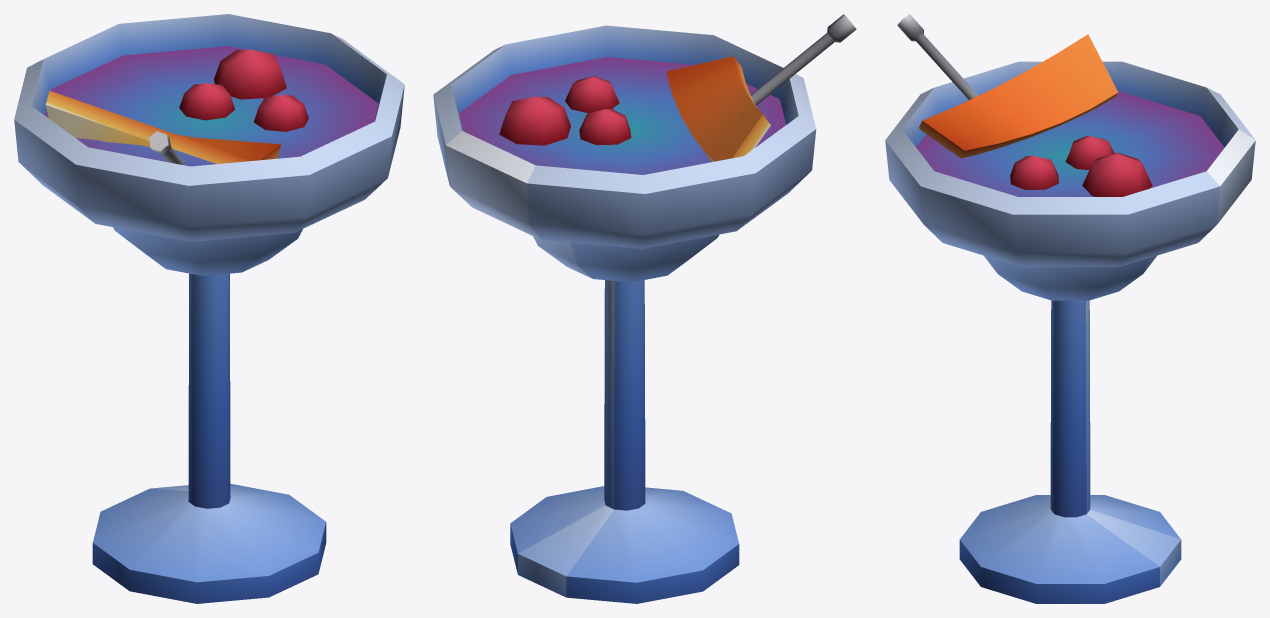
Rendered from m_Cocktail28.fbx.
3 renders of one model, left to right at view 1: azimuth 30°, elevation 25°; view 2: azimuth 150°, elevation 25°; view 3: azimuth 270°, elevation 25°, orthographic. The views are drawn at different scales.
Visible parts, largest first — view 1: m_Cocktail28; view 2: m_Cocktail28; view 3: m_Cocktail28.
Boxes of the visible parts, left/top/right/bottom form: m_Cocktail28: left=14, top=14, right=404, bottom=603; m_Cocktail28: left=433, top=14, right=856, bottom=603; m_Cocktail28: left=885, top=14, right=1255, bottom=603.
Bounding box in the file's own units: 15.92 × 24.05 × 16.74.
